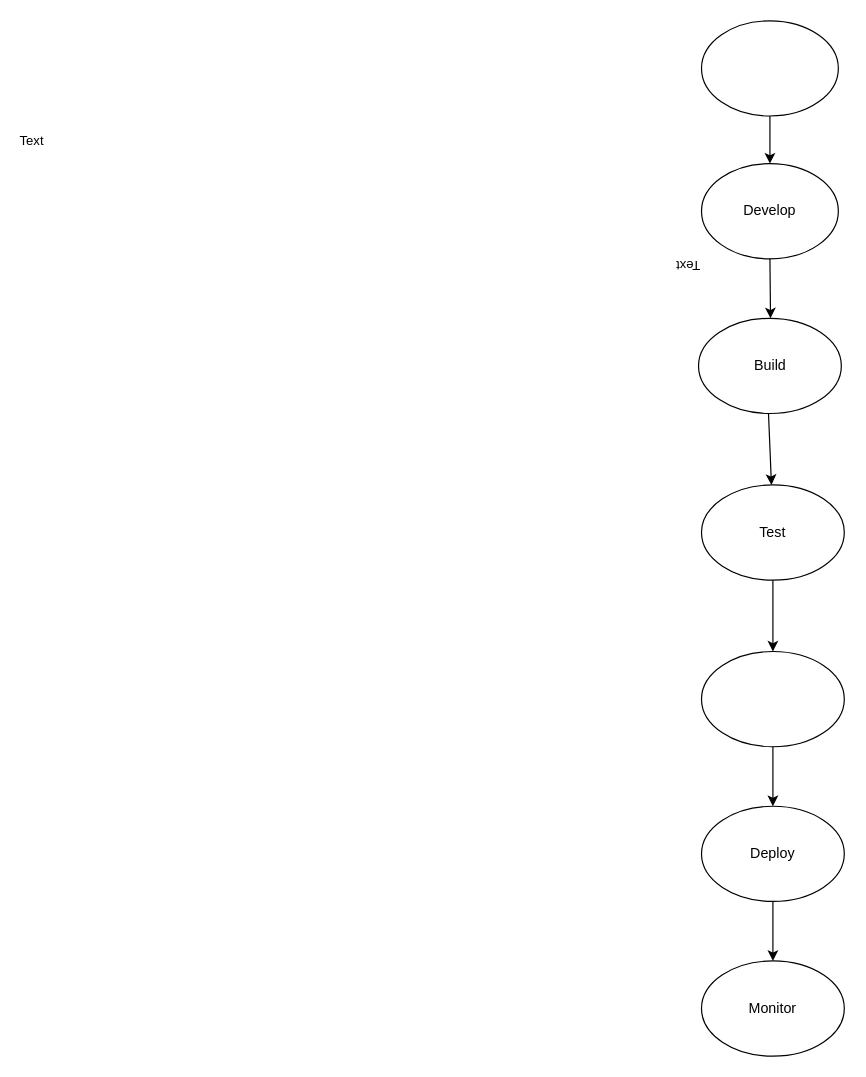
Some shapes in this 866 by 1077 pixel diagram are drawn without their labels. The shapes that lost their labels are listed below. From the top down, each one's box as (x1, y1, x2, y2) in pixels, then its label:
(700, 20, 838, 116): plan
(700, 650, 844, 747): Release
